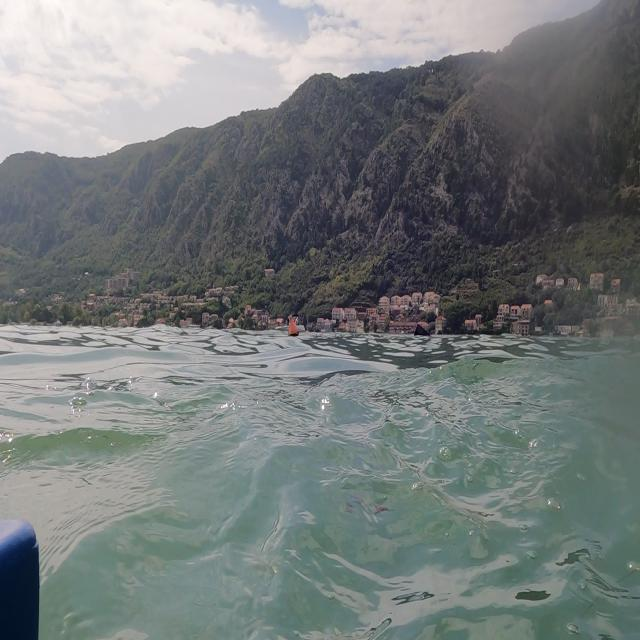buoy: (282, 309, 310, 347)
